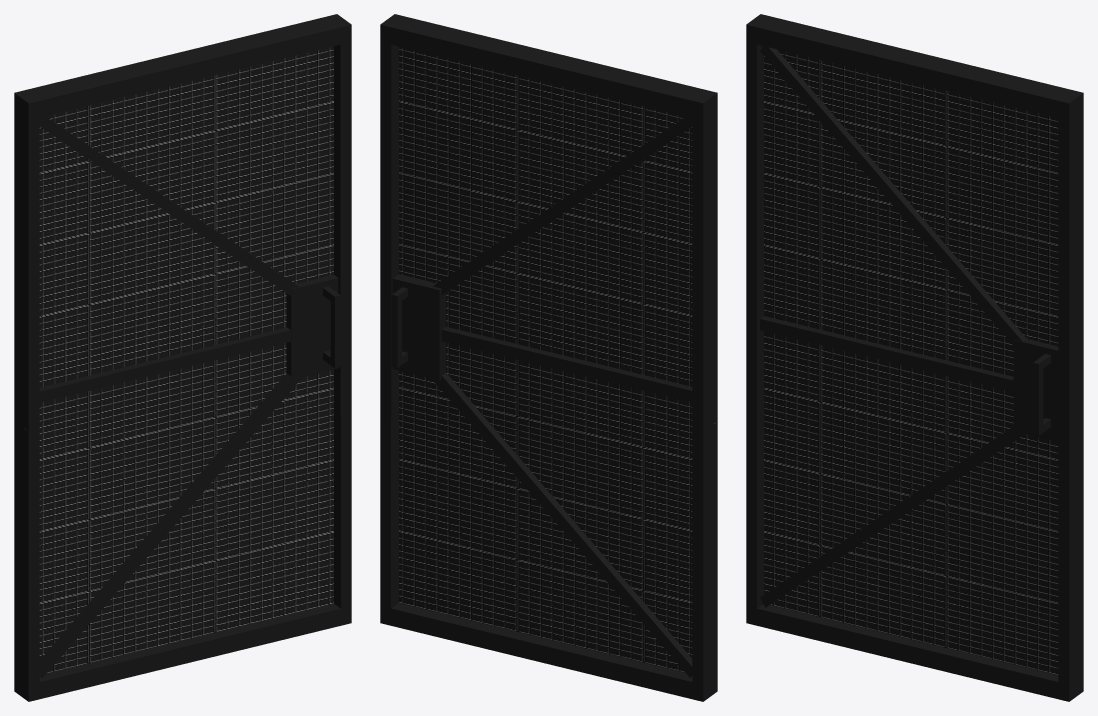
The model's file is Prop_Gate.FBX.
3 views of the same model, side by side, from view 1: azimuth 30°, elevation 25°; view 2: azimuth 150°, elevation 25°; view 3: azimuth 330°, elevation 25° (orthographic).
Parts seen in each view (by area): view 1: Prop_Gate; view 2: Prop_Gate; view 3: Prop_Gate.
Part boxes in pixels (x1,y1,x2,y2): Prop_Gate: (14,14,351,701); Prop_Gate: (380,14,717,701); Prop_Gate: (746,14,1083,701).
Size of the model in its own units: 0.705 by 1.25 by 0.1251.
